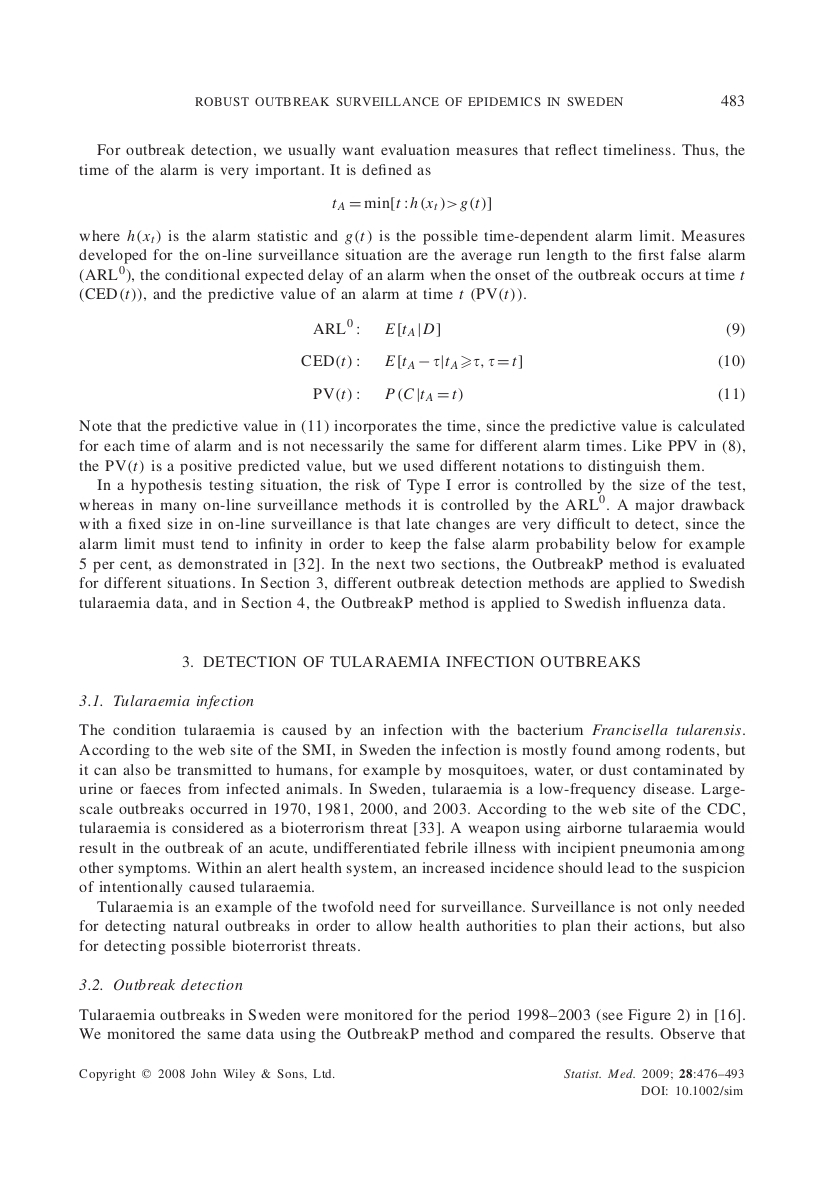formula: (313, 318, 744, 337), (301, 354, 744, 369), (313, 387, 744, 402), (332, 197, 490, 211)
